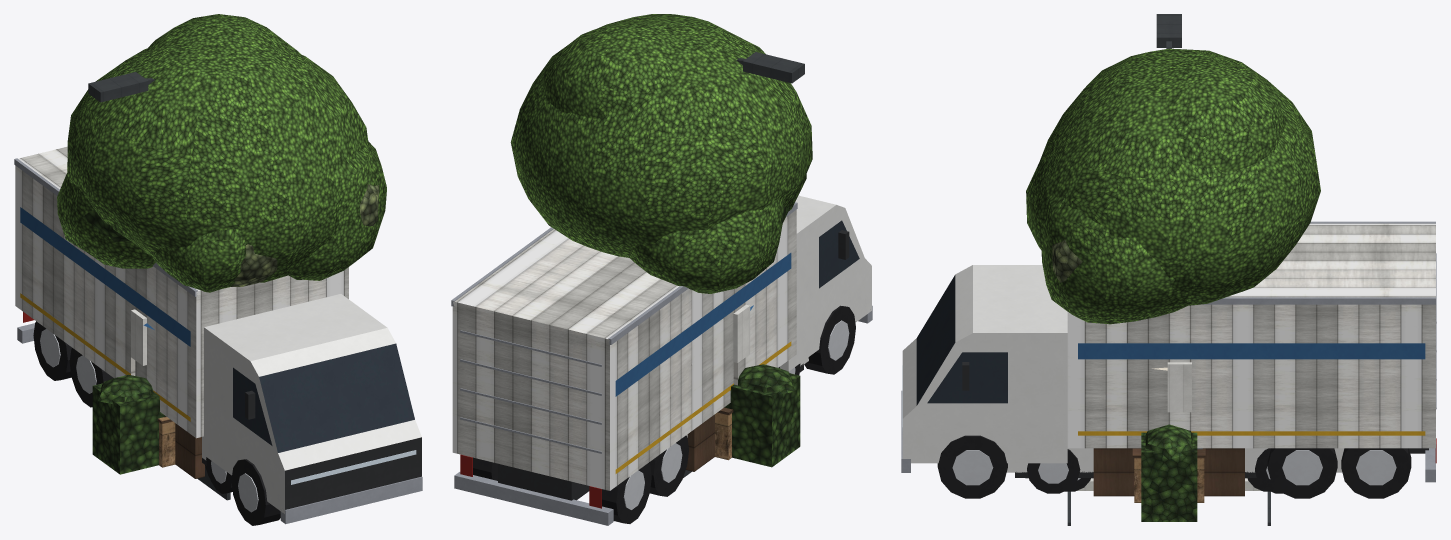
File: halcyon-props.glb
The picture shows the model from 3 angles, left to right: view 1: azimuth 30°, elevation 25°; view 2: azimuth 150°, elevation 25°; view 3: azimuth 270°, elevation 25°; orthographic projection. The views are drawn at different scales.
Visible parts, largest first — view 1: tree_crown, box-truck_cab, box-truck_box, box-truck_trim, hedge_hedge, box-truck_wheels, box-truck_hubs, box-truck_glass, streetlight_head, hot-tub_shell, planter-box_box, counter_upper (+1 smaller); view 2: tree_crown, box-truck_box, box-truck_trim, box-truck_cab, hedge_hedge, box-truck_wheels, box-truck_hubs, box-truck_glass, streetlight_head, hot-tub_shell, counter_upper, planter-box_box (+1 smaller); view 3: tree_crown, box-truck_box, box-truck_cab, box-truck_trim, box-truck_wheels, hedge_hedge, hot-tub_shell, box-truck_hubs, box-truck_glass, van_wheels, counter_upper, van_body (+2 smaller).
Part boxes in pixels (x1,y1,x2,y2): tree_crown: [57, 14, 386, 292]; box-truck_cab: [204, 294, 421, 513]; box-truck_box: [15, 146, 348, 438]; box-truck_trim: [14, 158, 422, 524]; hedge_hedge: [92, 374, 165, 474]; box-truck_wheels: [33, 321, 280, 525]; box-truck_hubs: [40, 329, 258, 512]; box-truck_glass: [233, 367, 272, 445]; streetlight_head: [88, 72, 148, 102]; hot-tub_shell: [175, 423, 204, 478]; planter-box_box: [157, 416, 175, 467]; counter_upper: [131, 309, 146, 365]; tree_crown: [510, 14, 812, 293]; box-truck_box: [452, 209, 796, 490]; box-truck_trim: [451, 202, 872, 525]; box-truck_cab: [780, 195, 871, 371]; hedge_hedge: [724, 364, 800, 467]; box-truck_wheels: [473, 305, 855, 523]; box-truck_hubs: [623, 320, 849, 509]; box-truck_glass: [819, 220, 859, 288]; streetlight_head: [743, 52, 804, 83]; hot-tub_shell: [686, 414, 714, 471]; counter_upper: [733, 304, 750, 362]; planter-box_box: [715, 407, 733, 460]; tree_crown: [1026, 48, 1320, 324]; box-truck_box: [1067, 223, 1435, 448]; box-truck_cab: [902, 265, 1067, 463]; box-truck_trim: [901, 221, 1436, 482]; box-truck_wheels: [937, 435, 1411, 498]; hedge_hedge: [1141, 424, 1197, 521]; hot-tub_shell: [1093, 448, 1244, 496]; box-truck_hubs: [952, 450, 1396, 485]; box-truck_glass: [927, 352, 1007, 403]; van_wheels: [1027, 448, 1282, 493]; counter_upper: [1167, 362, 1191, 412]; van_body: [1006, 448, 1344, 472].
Bounding box in the file's own units: 4.5 × 6.87 × 7.63.
Materials: 47 (47 with a texture image).
